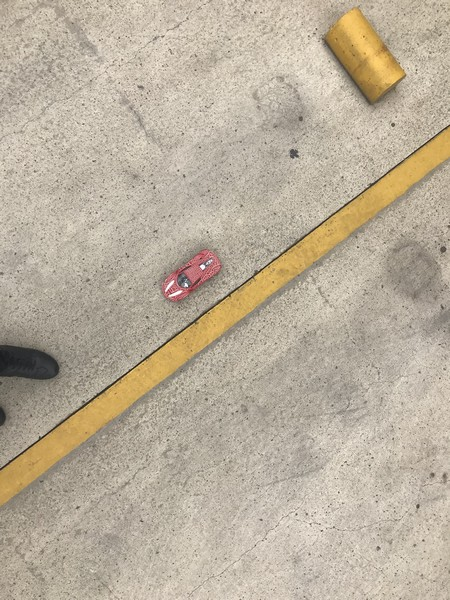RC: (162, 248, 225, 306)
